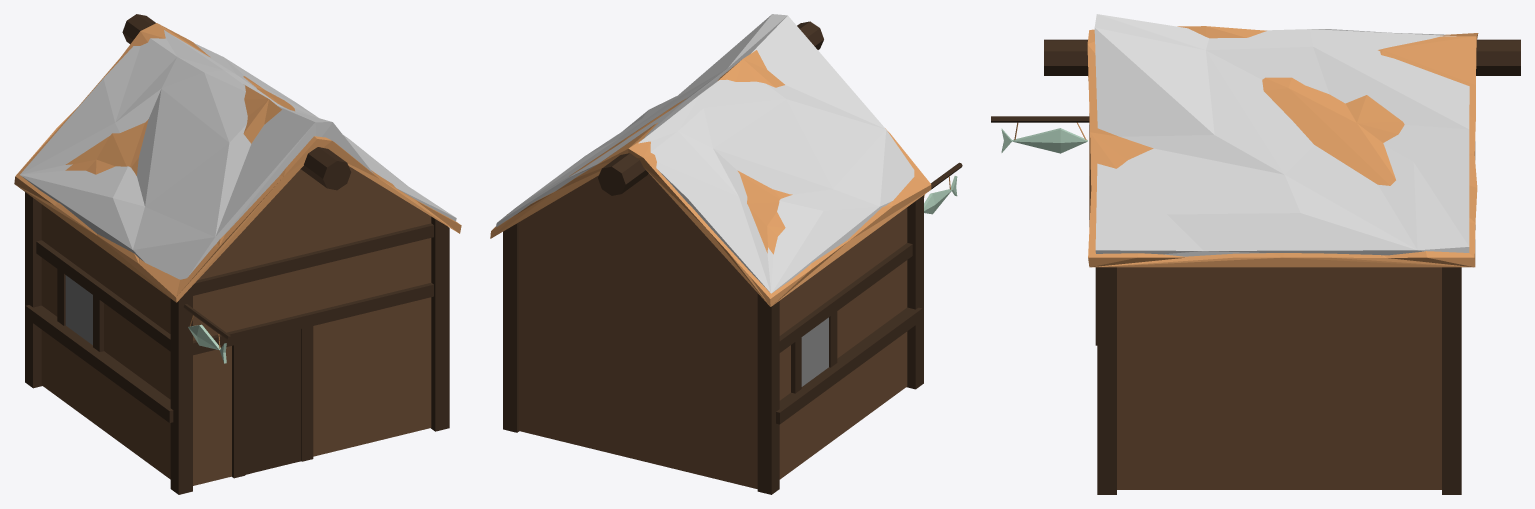
File: house_snow_mat.fbx
3 views of the same model, side by side, from view 1: azimuth 30°, elevation 25°; view 2: azimuth 150°, elevation 25°; view 3: azimuth 270°, elevation 25° (orthographic). The views are drawn at different scales.
Visible parts, largest first — view 1: house_snow_mat; view 2: house_snow_mat; view 3: house_snow_mat.
Part boxes in pixels (box(x1,y1,x2,y2)): house_snow_mat: box(14, 14, 461, 494); house_snow_mat: box(490, 14, 962, 494); house_snow_mat: box(991, 14, 1520, 494).
Size of the model in its own units: 236 by 267 by 318.
